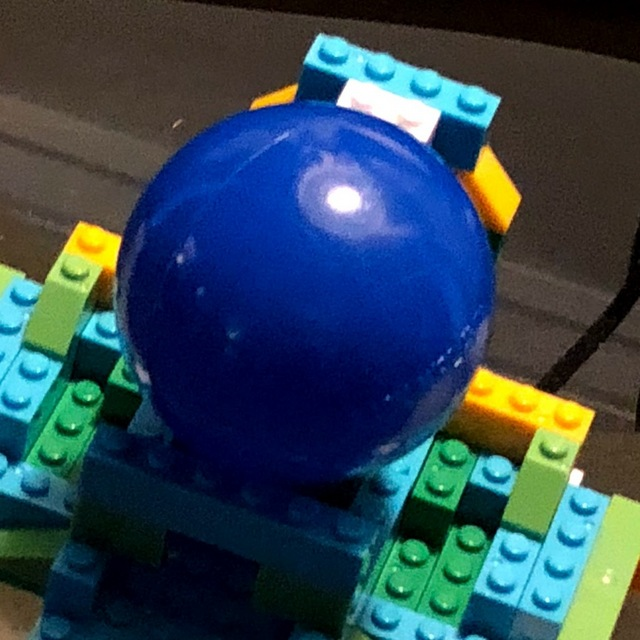Ball: (115, 98, 496, 483)
